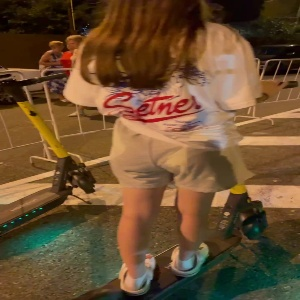human on a scooter: (63, 1, 299, 300)
